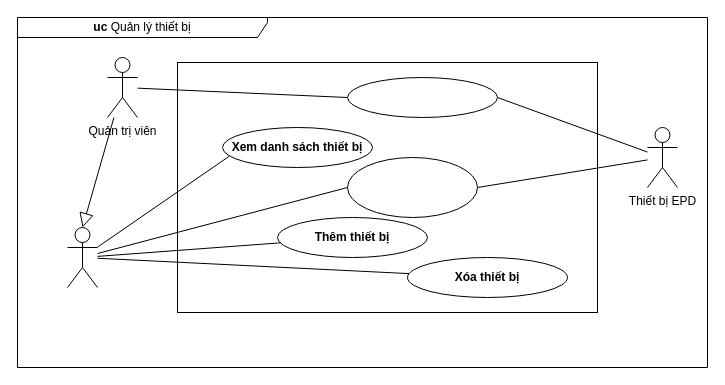
Some shapes in this 725 by 385 pixel diagram are drawn without their labels. Each missing label, with the centre of its shape:
Cập nhật thông tin thiết bị: the point at 412,187
Debug, quản lý ESP: the point at 422,97
Người quản lý: the point at 82,257
